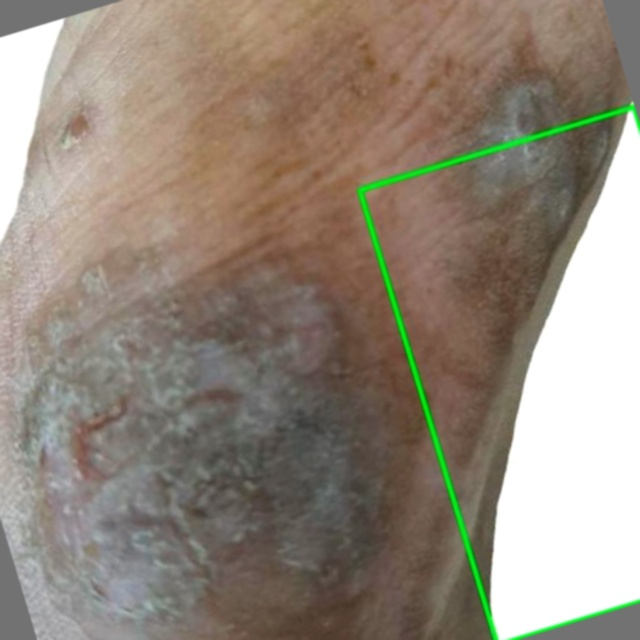Contact Dermatitis: (359, 107, 639, 639)
